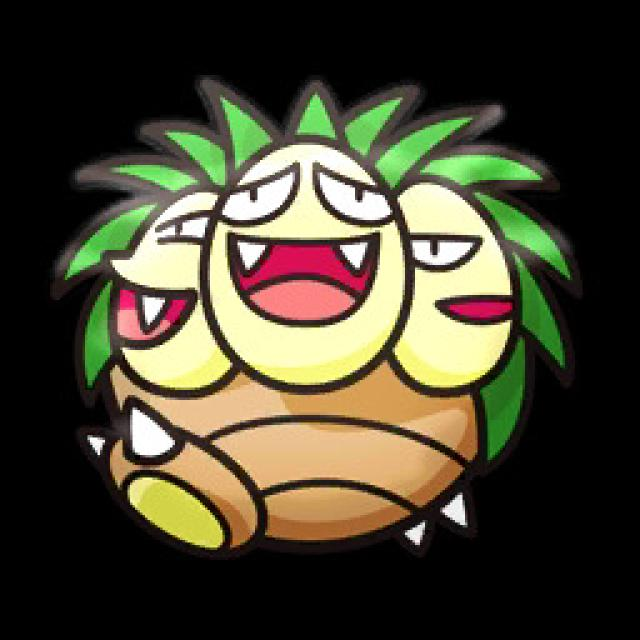Exeggutor: (52, 56, 580, 568)
